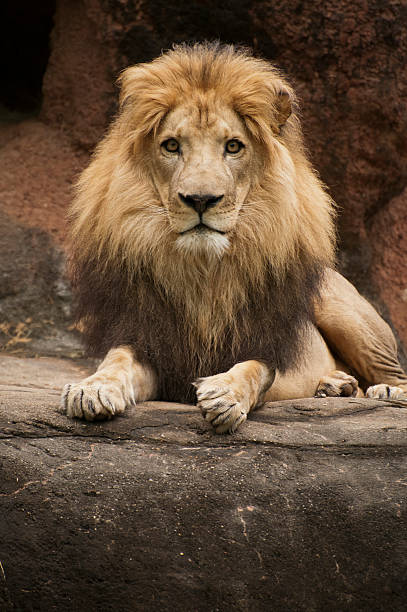lion: (37, 26, 359, 395)
